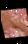plaque psoriasis: (2, 5, 28, 30), (2, 22, 28, 40)
